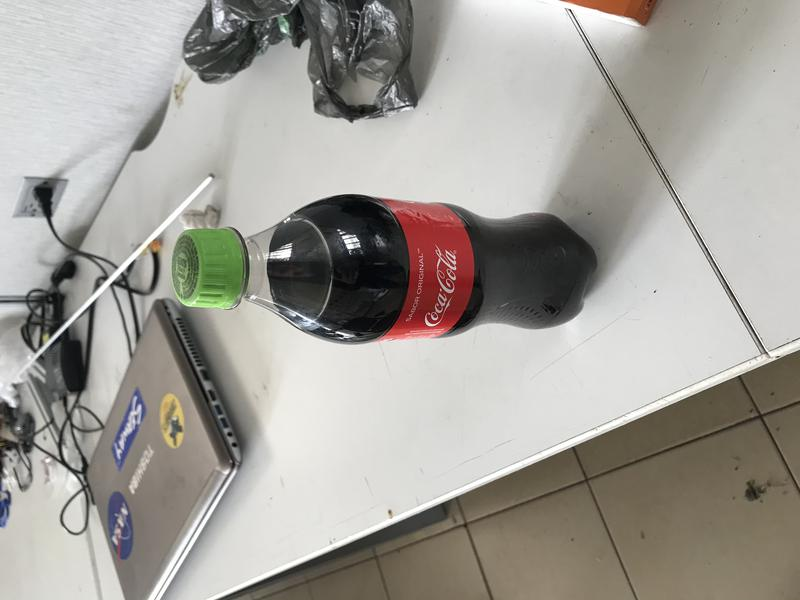coca_cola: (173, 194, 598, 344)
